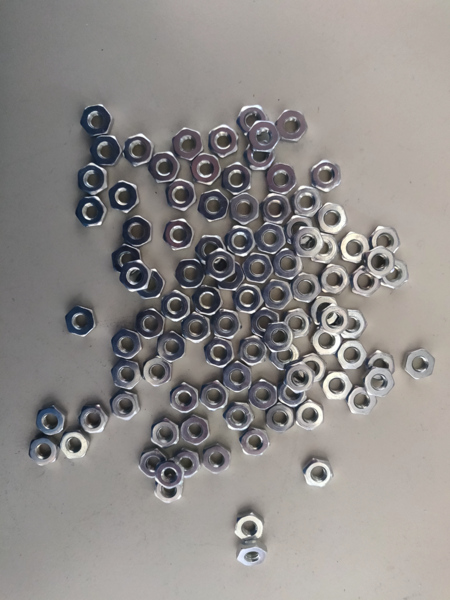nut: (119, 260, 153, 293), (247, 121, 281, 153), (163, 219, 196, 251), (190, 153, 222, 186), (237, 105, 269, 138), (276, 110, 308, 143), (259, 194, 292, 226), (316, 203, 349, 235), (318, 264, 351, 296), (80, 105, 114, 136), (173, 128, 204, 162), (205, 249, 236, 283), (291, 227, 325, 258), (65, 306, 97, 338), (242, 252, 274, 284), (265, 164, 297, 196), (291, 186, 323, 218), (242, 253, 274, 285), (90, 136, 123, 167), (209, 125, 240, 158), (284, 362, 315, 395), (193, 283, 224, 316), (261, 280, 294, 311), (224, 225, 257, 256), (310, 160, 341, 193), (199, 189, 229, 223), (149, 152, 181, 183), (166, 180, 197, 212), (302, 456, 334, 487), (234, 509, 265, 541), (109, 390, 141, 421), (111, 359, 143, 390), (405, 348, 436, 380), (211, 308, 242, 340), (321, 371, 353, 402), (364, 367, 395, 399), (290, 273, 322, 304), (254, 224, 286, 255), (263, 322, 296, 352), (285, 213, 315, 246), (224, 163, 253, 197), (60, 428, 91, 459), (312, 326, 343, 357), (350, 266, 381, 297), (370, 226, 401, 257), (76, 197, 108, 227), (110, 181, 140, 213), (245, 141, 277, 171), (135, 308, 165, 340), (204, 338, 236, 368), (340, 232, 370, 264), (125, 134, 154, 167), (170, 381, 199, 414), (158, 331, 187, 364), (366, 247, 395, 280), (112, 329, 142, 360), (180, 415, 210, 446), (347, 386, 378, 416), (175, 259, 206, 289), (79, 163, 108, 195), (123, 216, 152, 248), (203, 444, 232, 476), (239, 428, 271, 457), (162, 291, 191, 323), (112, 244, 141, 276), (231, 193, 260, 225), (311, 233, 340, 265), (181, 313, 211, 343), (235, 284, 265, 314), (224, 402, 255, 431), (200, 380, 229, 411), (78, 405, 110, 433), (139, 450, 169, 479), (151, 419, 180, 449), (266, 404, 295, 434), (223, 362, 253, 391), (321, 304, 350, 334), (196, 236, 226, 265), (250, 379, 278, 410), (295, 400, 323, 431), (339, 310, 368, 339), (37, 406, 65, 436), (144, 357, 172, 387), (338, 342, 368, 370), (270, 343, 300, 371), (298, 353, 326, 383), (311, 296, 339, 326), (240, 336, 267, 367), (29, 438, 58, 466), (156, 460, 184, 489), (273, 252, 302, 280), (284, 308, 311, 338), (140, 269, 167, 299), (382, 259, 409, 289), (252, 308, 279, 337), (237, 540, 267, 566), (155, 476, 183, 503), (217, 264, 245, 291), (278, 382, 308, 407), (369, 351, 395, 379), (176, 448, 201, 477)
